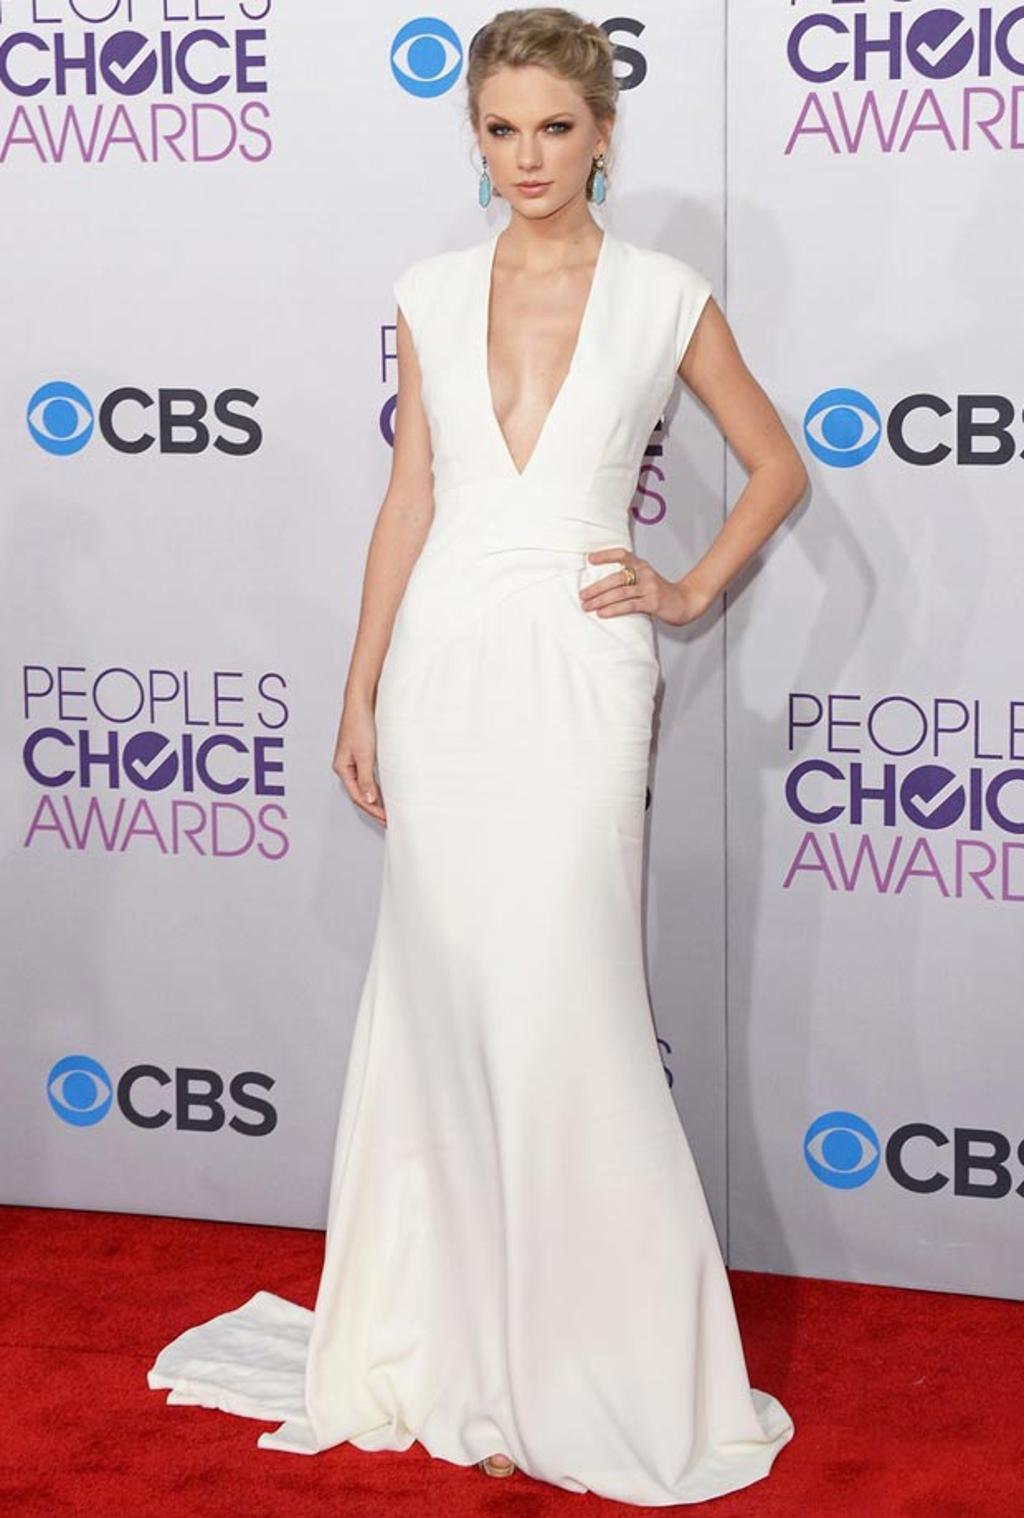face: (472, 65, 597, 213)
